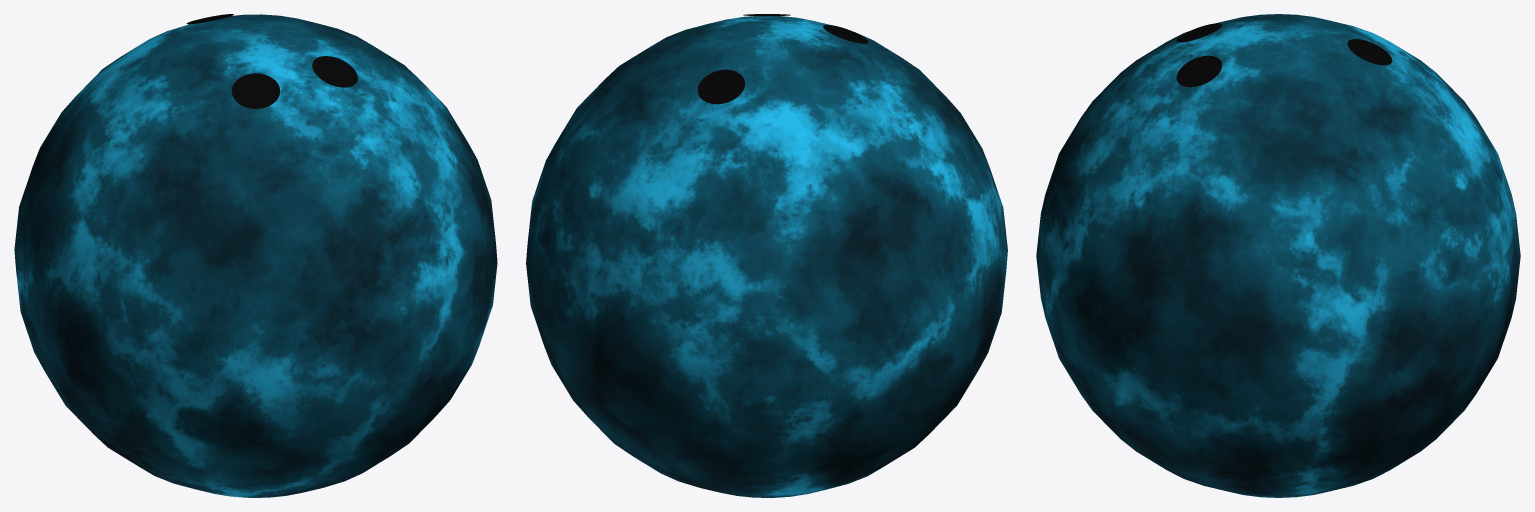
The model's file is ball_frostBlue.gltf.
3 views of the same model, side by side, from view 1: azimuth 30°, elevation 25°; view 2: azimuth 150°, elevation 25°; view 3: azimuth 270°, elevation 25° (orthographic).
Visible parts, largest first — view 1: frostBlue; view 2: frostBlue; view 3: frostBlue.
Boxes of the visible parts, bbox=[...] form: frostBlue: bbox=[14, 14, 497, 497]; frostBlue: bbox=[526, 14, 1007, 497]; frostBlue: bbox=[1036, 14, 1520, 497].
Bounding box in the file's own units: 0.25 × 0.25 × 0.25.
2 materials, 1 textured.
